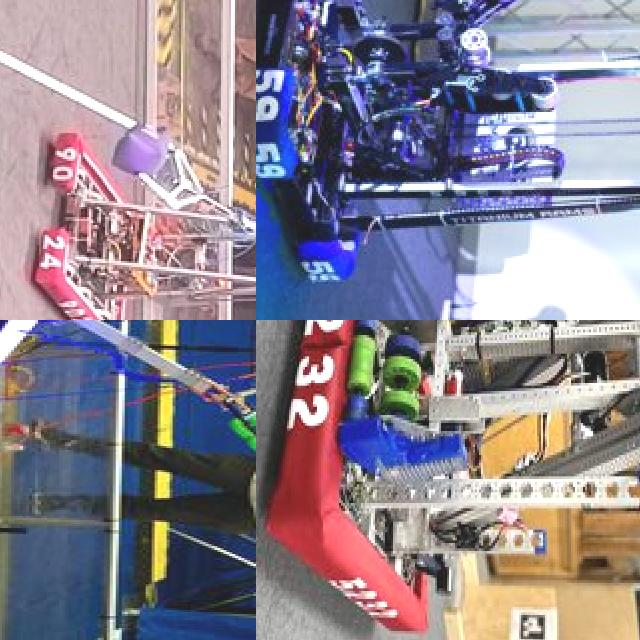FRC-Robots: (261, 320, 640, 634), (256, 0, 640, 299), (0, 320, 256, 640), (14, 95, 256, 320), (0, 583, 214, 640)
